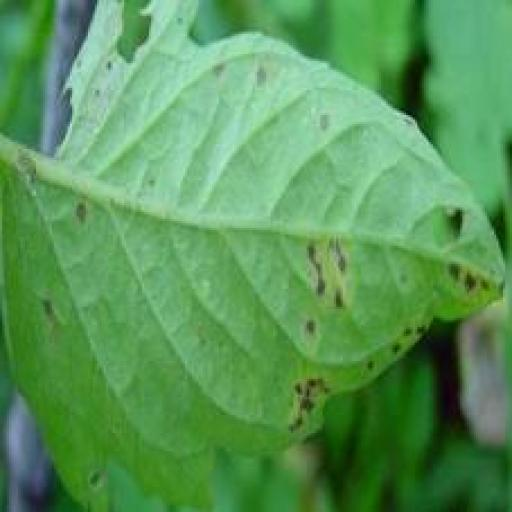Bacterial Spot: (0, 0, 505, 510)
